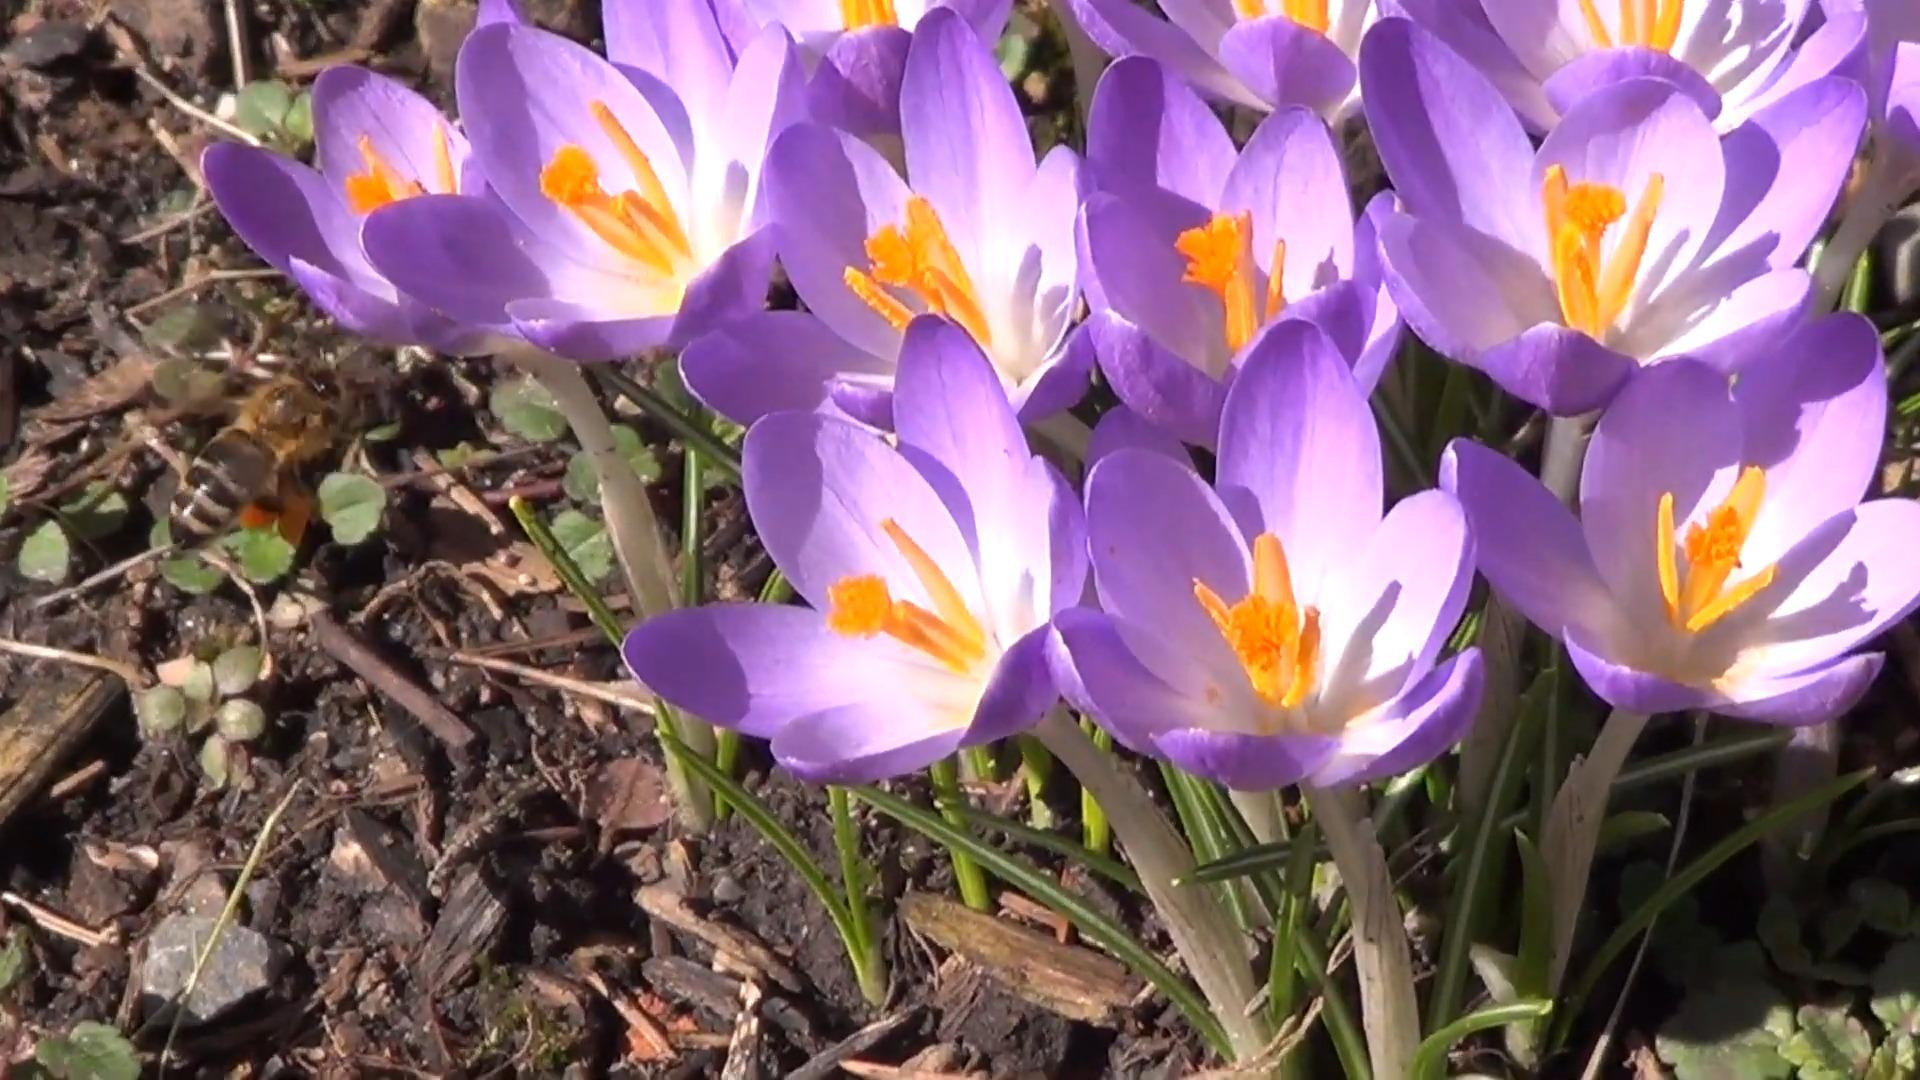pollenbee: (173, 363, 343, 546)
